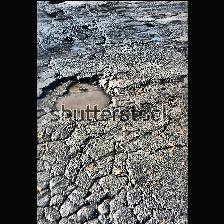pothole: (38, 70, 118, 120), (46, 8, 68, 16), (46, 0, 64, 4)
